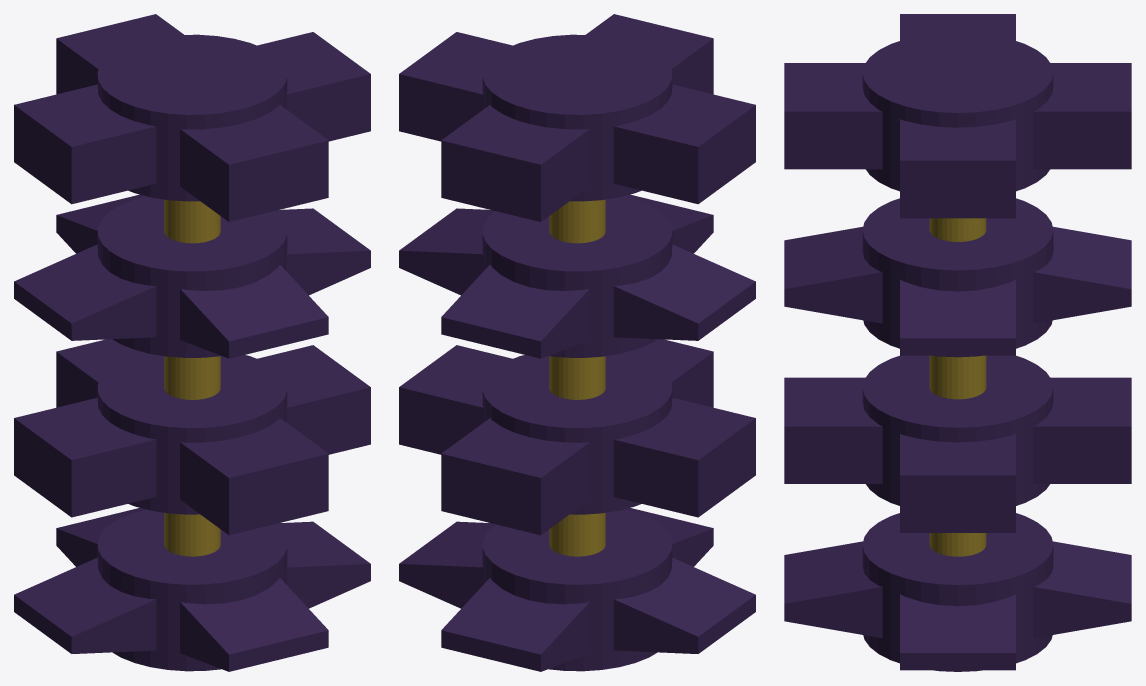
File: tower_2.fbx
3 renders of one model, left to right at view 1: azimuth 30°, elevation 25°; view 2: azimuth 150°, elevation 25°; view 3: azimuth 270°, elevation 25°, orthographic.
Visible parts, largest first — view 1: tower_base.002; view 2: tower_base.002; view 3: tower_base.002.
Boxes of the visible parts, box(x1,y1,x2,y2) form: tower_base.002: box(14, 14, 370, 671); tower_base.002: box(399, 14, 755, 671); tower_base.002: box(784, 14, 1131, 671).
Size of the model in its own units: 600 by 1066 by 600.
